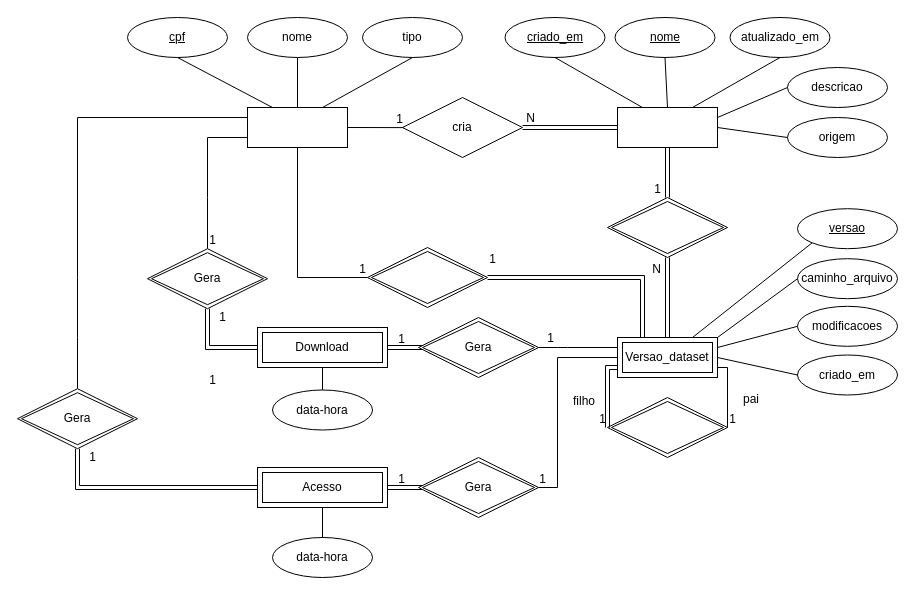
The diagram is 915 pixels wide and 595 high, and some of its shapes have lost their labels. Each missing label, with the box of its shape:
Dataset: (616, 106, 718, 148)
Deriva: (606, 396, 728, 458)
Possui: (606, 196, 728, 258)
Submete: (366, 246, 488, 308)
Usuário: (246, 106, 348, 148)
